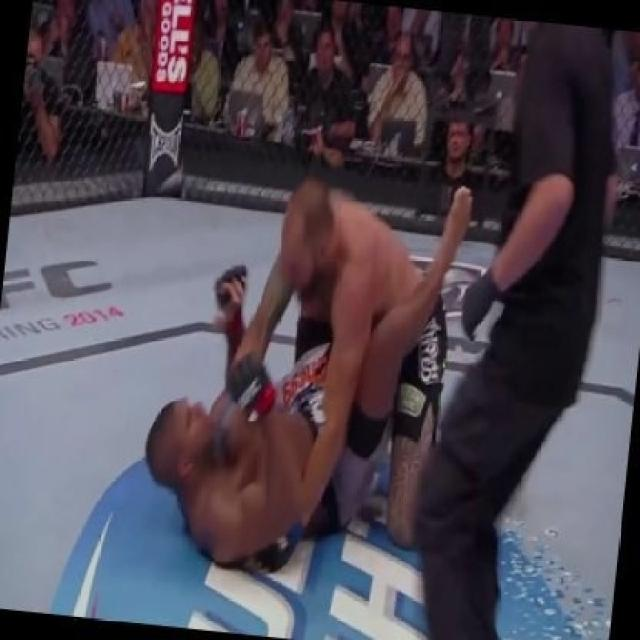fight: (109, 166, 476, 570)
non-fight: (408, 20, 614, 640)
